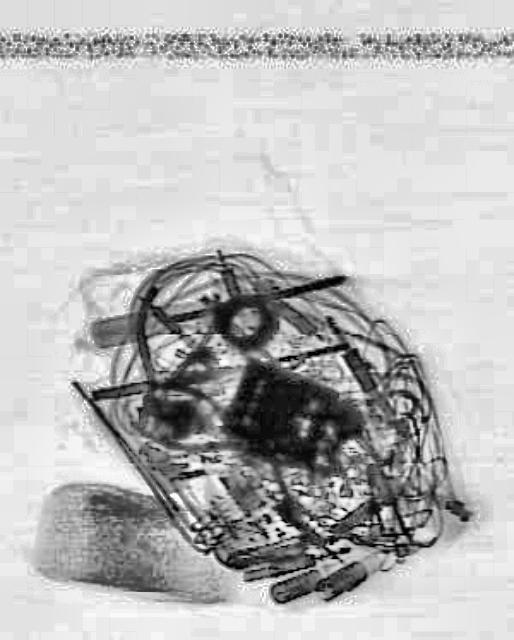Pliers: (102, 268, 222, 444), (139, 374, 273, 470)
